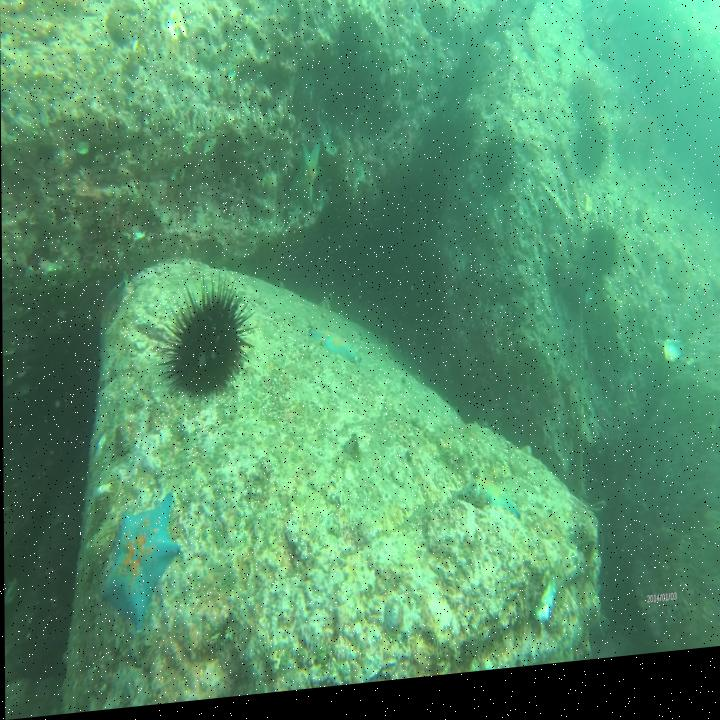echinus: (153, 277, 252, 409), (568, 129, 610, 189), (586, 224, 622, 292), (487, 132, 520, 203), (571, 78, 606, 135), (614, 124, 644, 174), (338, 11, 364, 59), (635, 120, 657, 171)
starfish: (96, 496, 180, 630), (459, 470, 521, 542), (308, 324, 359, 382), (292, 147, 326, 222)
